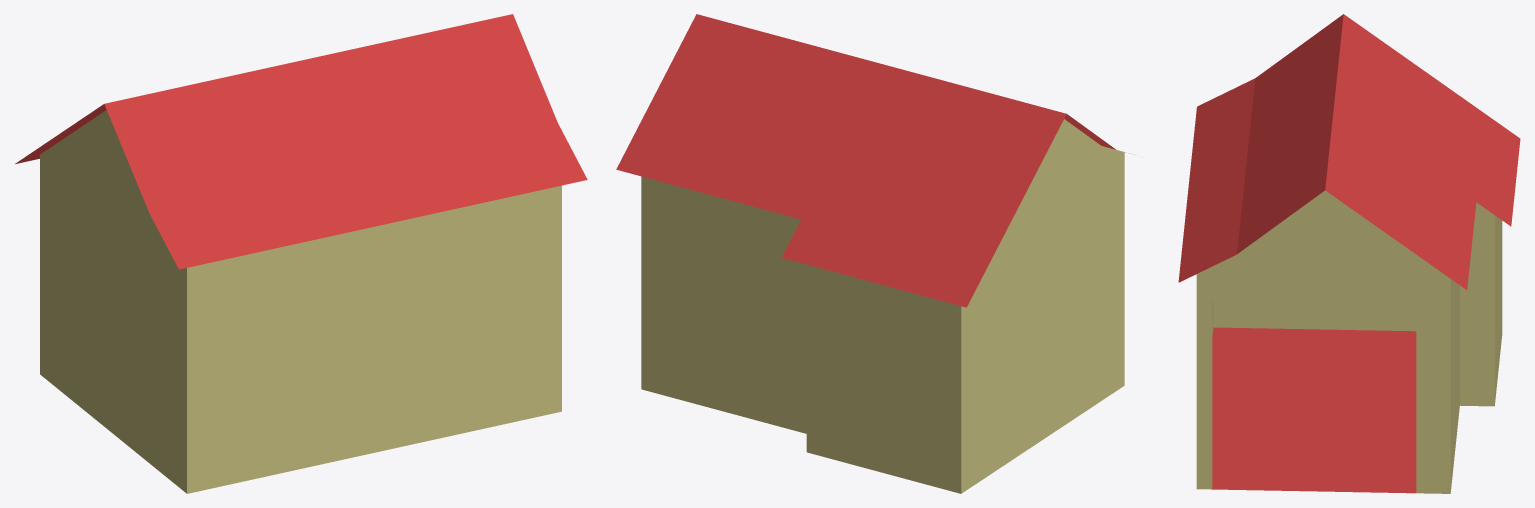
The picture shows the model from 3 angles, left to right: view 1: azimuth 30°, elevation 25°; view 2: azimuth 150°, elevation 25°; view 3: azimuth 270°, elevation 25°; orthographic projection. The views are drawn at different scales.
Bounding box in the file's own units: 18.66 × 14.84 × 14.77.
